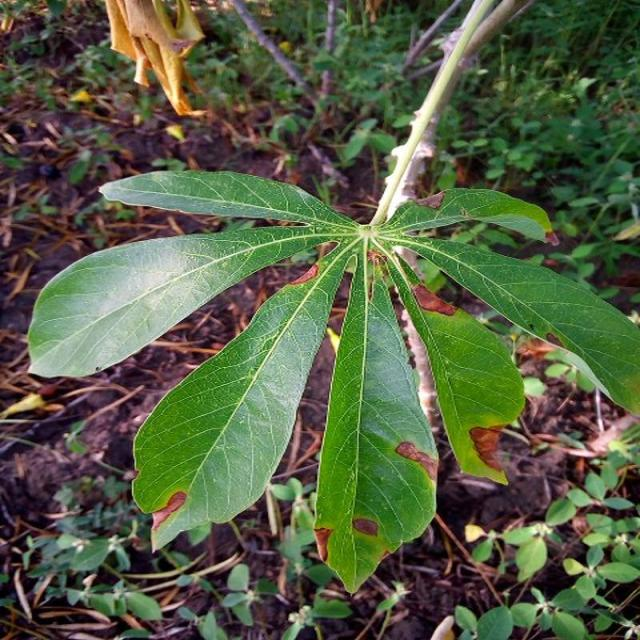cassava leaf: (26, 2, 638, 594), (130, 235, 356, 552), (26, 224, 339, 379), (313, 245, 439, 594), (382, 248, 526, 486)
